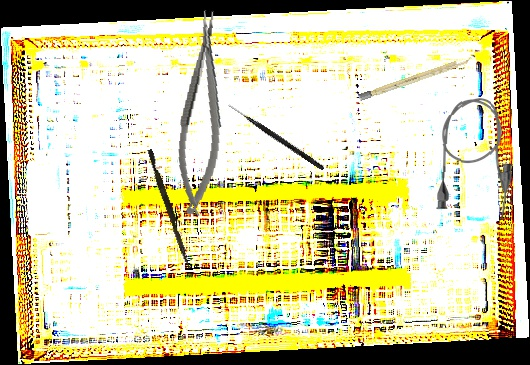Cannula: (435, 96, 516, 221)
Hook Surgical: (226, 103, 326, 171)
Needle Holder: (168, 8, 237, 219)
Pusher: (144, 148, 195, 270)
Scalpel Handle: (358, 55, 473, 102)
